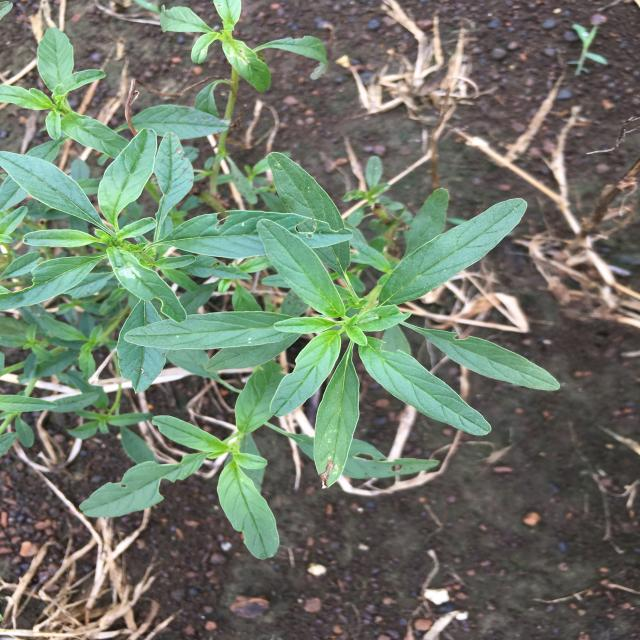Waterhemp: (1, 1, 559, 558)
